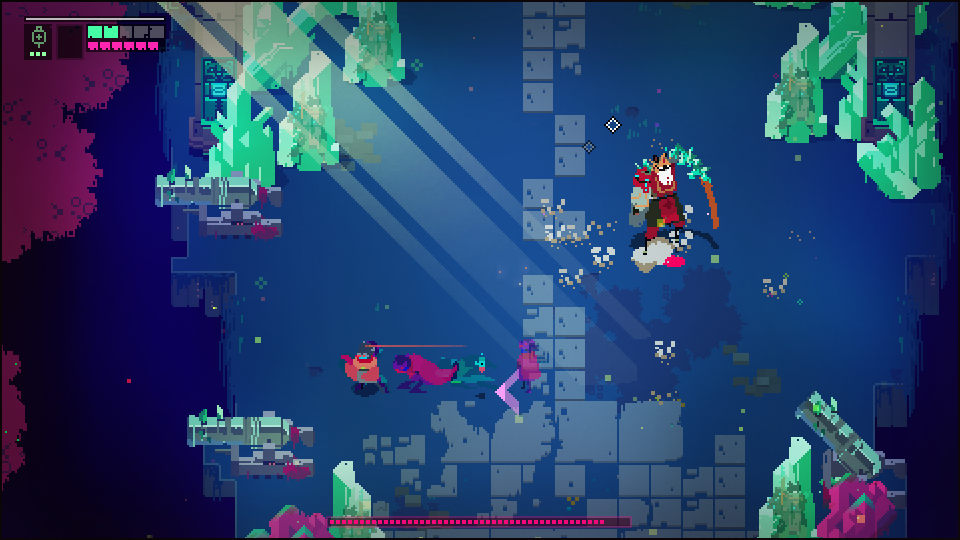hanged_man: (626, 142, 711, 261)
player: (337, 346, 385, 398)
